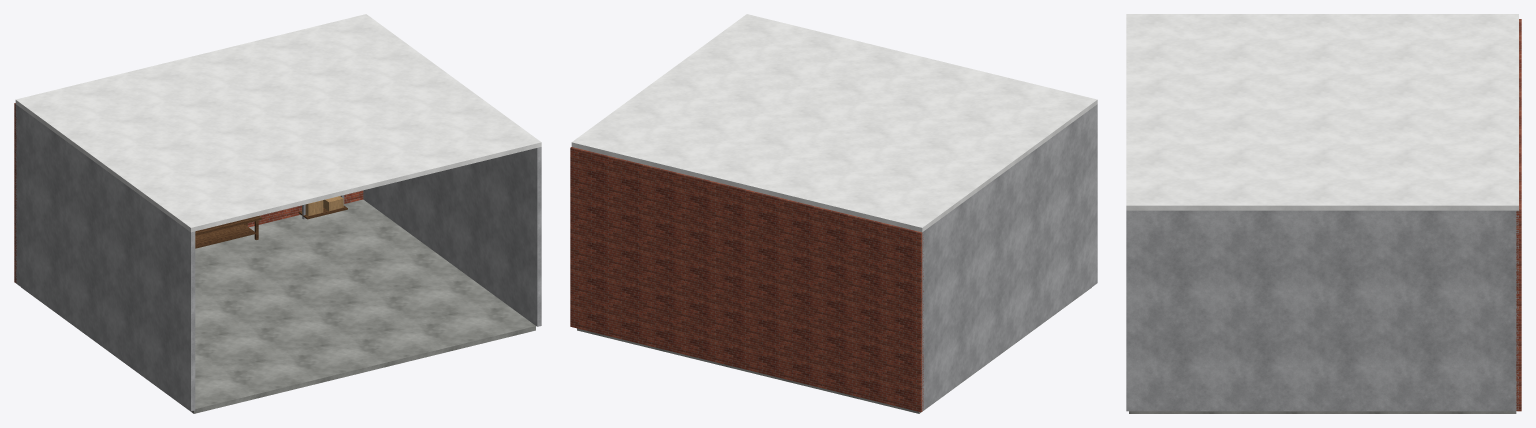
The model's file is PROP_BG_WORKSHOP.glb.
The picture shows the model from 3 angles, left to right: view 1: azimuth 30°, elevation 25°; view 2: azimuth 150°, elevation 25°; view 3: azimuth 270°, elevation 25°; orthographic projection. The views are drawn at different scales.
Parts seen in each view (by area): view 1: PROP_BG_WORKSHOP_4, PROP_BG_WORKSHOP_0, PROP_BG_WORKSHOP_2, PROP_BG_WORKSHOP_3, PROP_BG_WORKSHOP_1, PROP_BG_WORKSHOP_10; view 2: PROP_BG_WORKSHOP_1, PROP_BG_WORKSHOP_4, PROP_BG_WORKSHOP_2, PROP_BG_WORKSHOP_0; view 3: PROP_BG_WORKSHOP_3, PROP_BG_WORKSHOP_4, PROP_BG_WORKSHOP_1, PROP_BG_WORKSHOP_0.
Part boxes in pixels (x1,y1,x2,y2): PROP_BG_WORKSHOP_4: (15,14,541,232); PROP_BG_WORKSHOP_0: (21,199,535,413); PROP_BG_WORKSHOP_2: (15,104,195,411); PROP_BG_WORKSHOP_3: (363,147,541,326); PROP_BG_WORKSHOP_1: (14,103,363,282); PROP_BG_WORKSHOP_10: (195,224,255,248); PROP_BG_WORKSHOP_1: (570,147,923,412); PROP_BG_WORKSHOP_4: (571,14,1097,232); PROP_BG_WORKSHOP_2: (922,104,1097,410); PROP_BG_WORKSHOP_0: (577,287,1091,413); PROP_BG_WORKSHOP_3: (1126,210,1518,411); PROP_BG_WORKSHOP_4: (1126,14,1518,210); PROP_BG_WORKSHOP_1: (1516,19,1521,411); PROP_BG_WORKSHOP_0: (1129,411,1516,413).
Bounding box in the file's own units: 16.4 × 8.4 × 14.3.
Materials: 16 (9 with a texture image).
